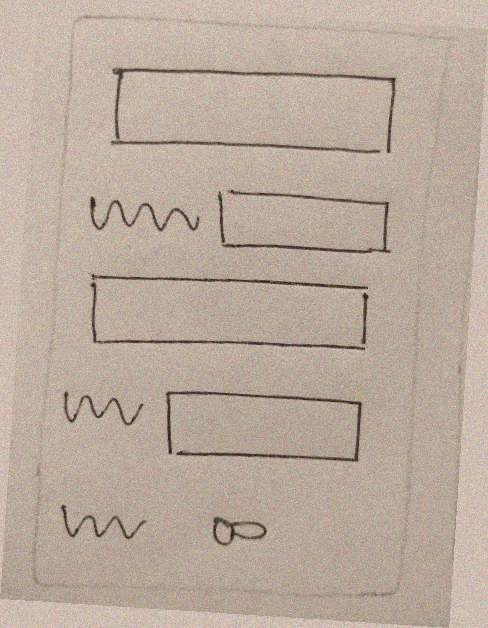switch: (196, 503, 281, 556)
text: (79, 187, 205, 246), (49, 494, 153, 551), (55, 382, 152, 440)
text_input: (99, 54, 402, 169), (76, 260, 382, 366), (152, 380, 376, 475), (208, 180, 399, 263)
